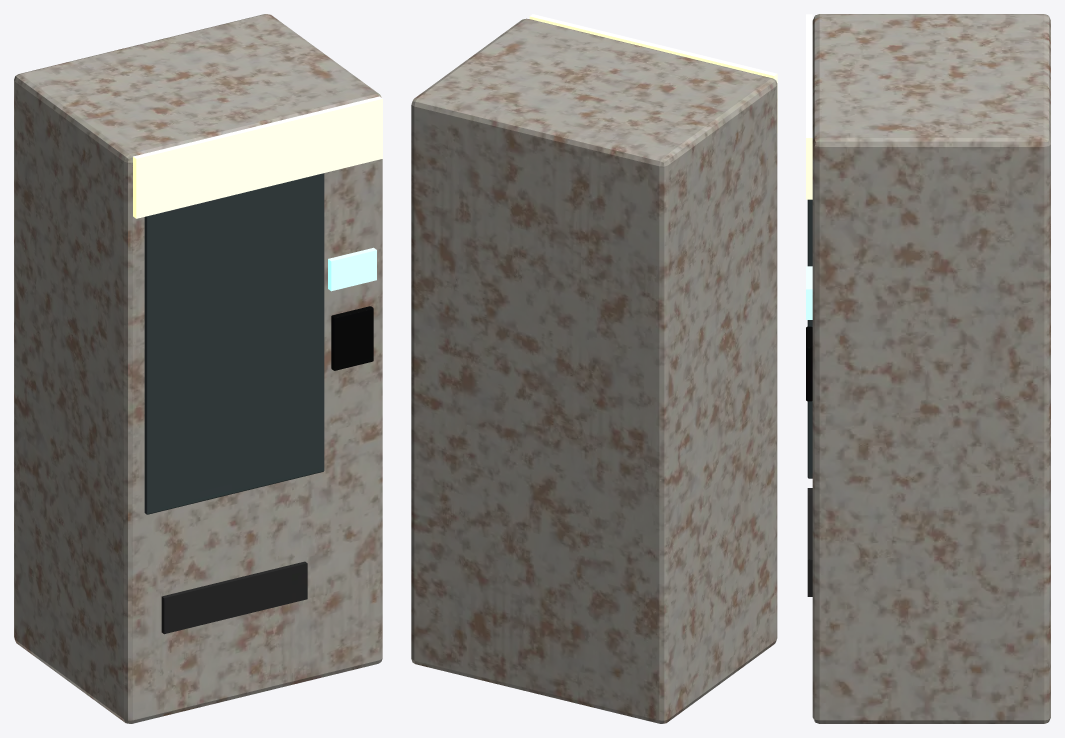
Rendered from kiosk.glb.
3 renders of one model, left to right at view 1: azimuth 30°, elevation 25°; view 2: azimuth 150°, elevation 25°; view 3: azimuth 270°, elevation 25°, orthographic. The views are drawn at different scales.
Parts seen in each view (by area): view 1: Kiosk; view 2: Kiosk; view 3: Kiosk.
Part boxes in pixels (x1,y1,x2,y2): Kiosk: [14, 14, 382, 723]; Kiosk: [411, 14, 777, 723]; Kiosk: [806, 14, 1050, 723].
Bounding box in the file's own units: 0.9 × 1.9 × 0.72.
9 materials, 7 textured.
